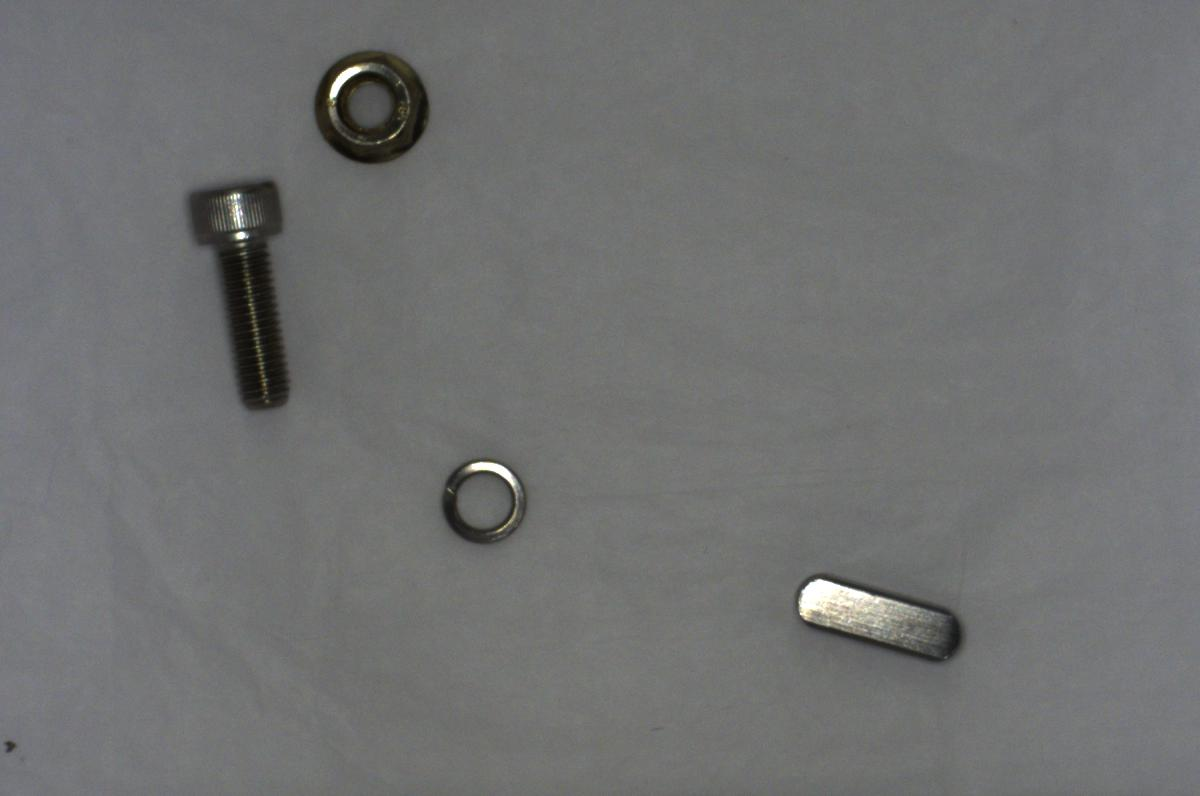Flange nut: (308, 41, 439, 173)
Hexagon screw: (170, 168, 310, 419)
Keybar: (786, 567, 964, 670)
Spring washer: (430, 452, 533, 550)
